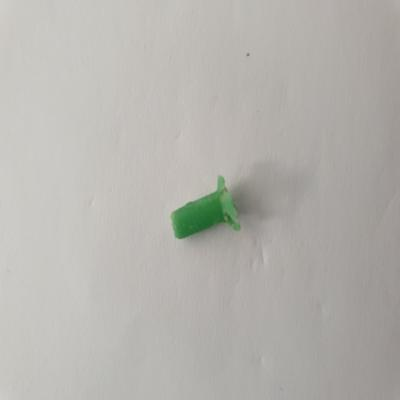plastic: (164, 171, 246, 247)
